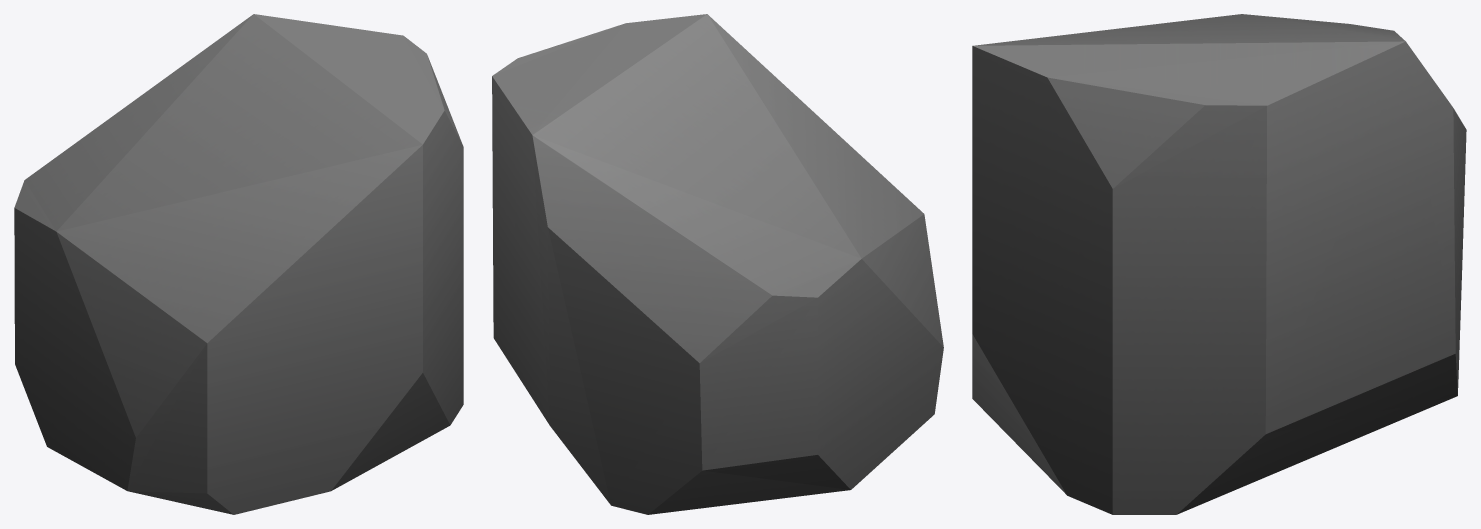
File: Jungle_Rock_Large_C.fbx
3 renders of one model, left to right at view 1: azimuth 30°, elevation 25°; view 2: azimuth 150°, elevation 25°; view 3: azimuth 270°, elevation 25°, orthographic. The views are drawn at different scales.
Visible parts, largest first — view 1: Jungle_Rock_Large_C; view 2: Jungle_Rock_Large_C; view 3: Jungle_Rock_Large_C.
Boxes of the visible parts, box(x1,y1,x2,y2) form: Jungle_Rock_Large_C: box(14, 14, 463, 514); Jungle_Rock_Large_C: box(492, 14, 943, 514); Jungle_Rock_Large_C: box(972, 14, 1466, 514).
Bounding box in the file's own units: 2.04 × 1.79 × 1.93.
